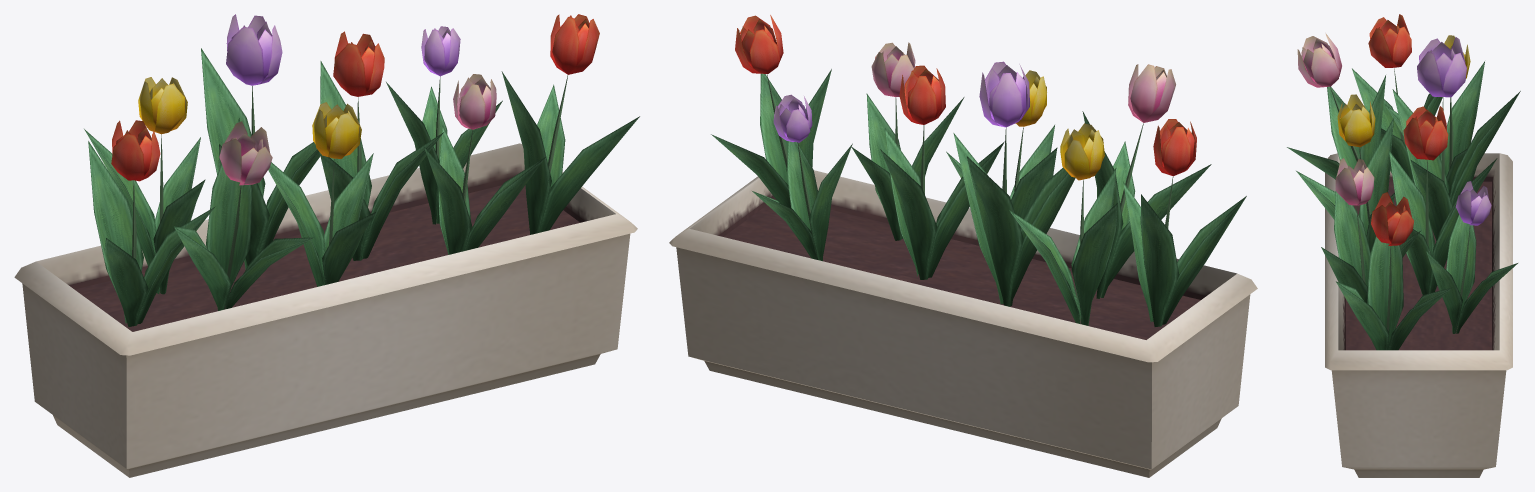
File: set_planter_01.fbx
3 views of the same model, side by side, from view 1: azimuth 30°, elevation 25°; view 2: azimuth 150°, elevation 25°; view 3: azimuth 270°, elevation 25° (orthographic). The views are drawn at different scales.
Visible parts, largest first — view 1: set_planter_01; view 2: set_planter_01; view 3: set_planter_01.
Boxes of the visible parts, box(x1,y1,x2,y2) form: set_planter_01: box(14, 14, 639, 477); set_planter_01: box(669, 15, 1257, 477); set_planter_01: box(1287, 14, 1520, 477).
Bounding box in the file's own units: 66.61 × 46.01 × 30.9.
